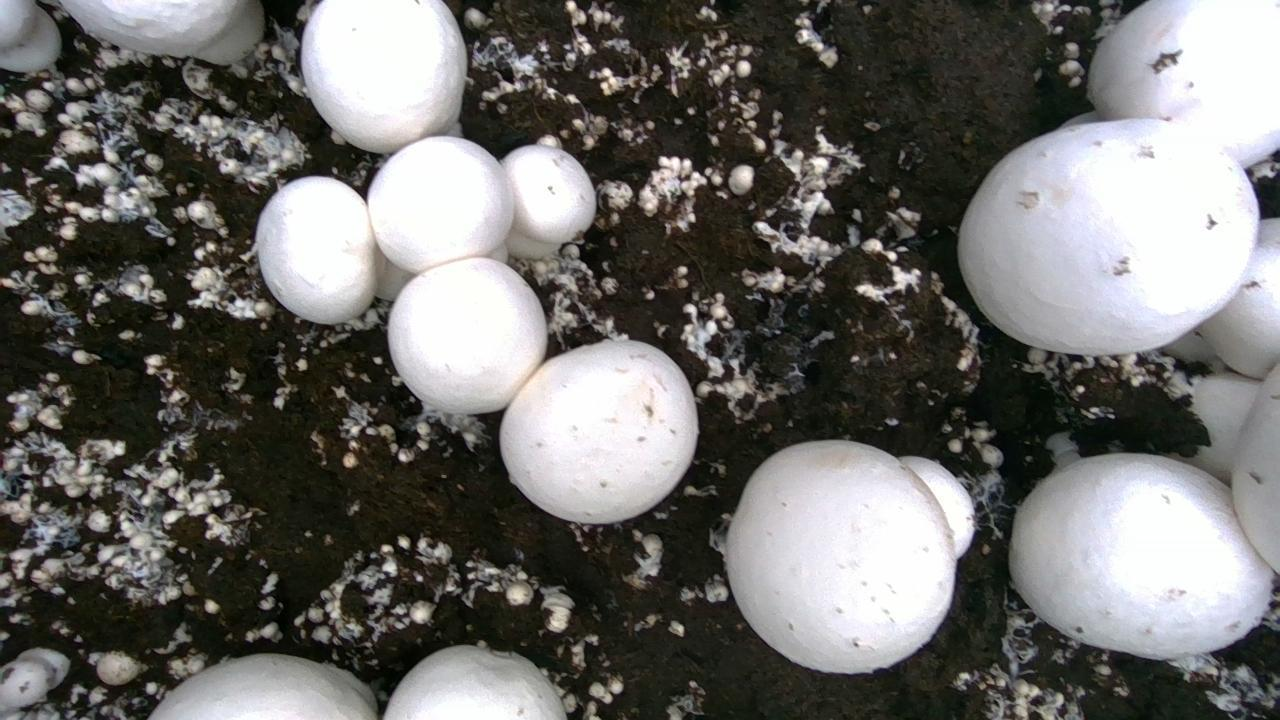WB: (958, 119, 1258, 355), (726, 440, 958, 674), (1009, 453, 1272, 659), (500, 340, 697, 523), (1088, 0, 1279, 167), (301, 0, 466, 152), (388, 257, 546, 413), (367, 136, 513, 272), (255, 176, 376, 324), (149, 654, 376, 719), (384, 645, 566, 719), (61, 0, 263, 64), (1202, 217, 1280, 378), (1232, 363, 1279, 572), (1179, 371, 1264, 485), (501, 145, 596, 244), (900, 456, 977, 558)
